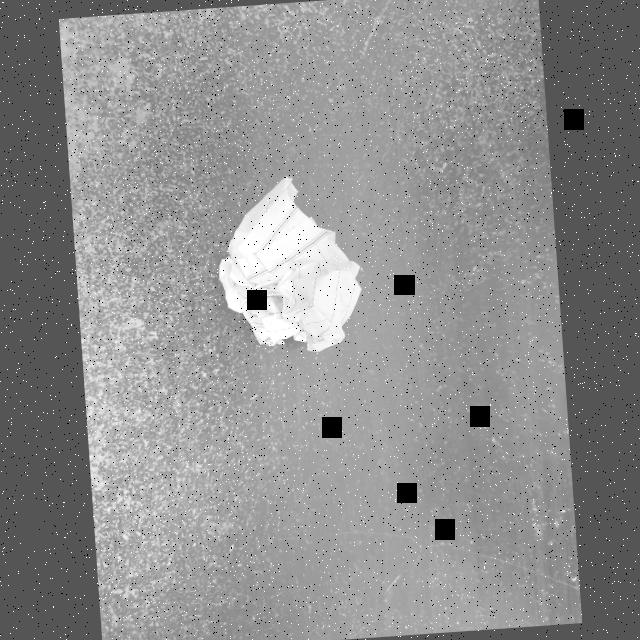scrap_paper: (209, 169, 373, 357)
